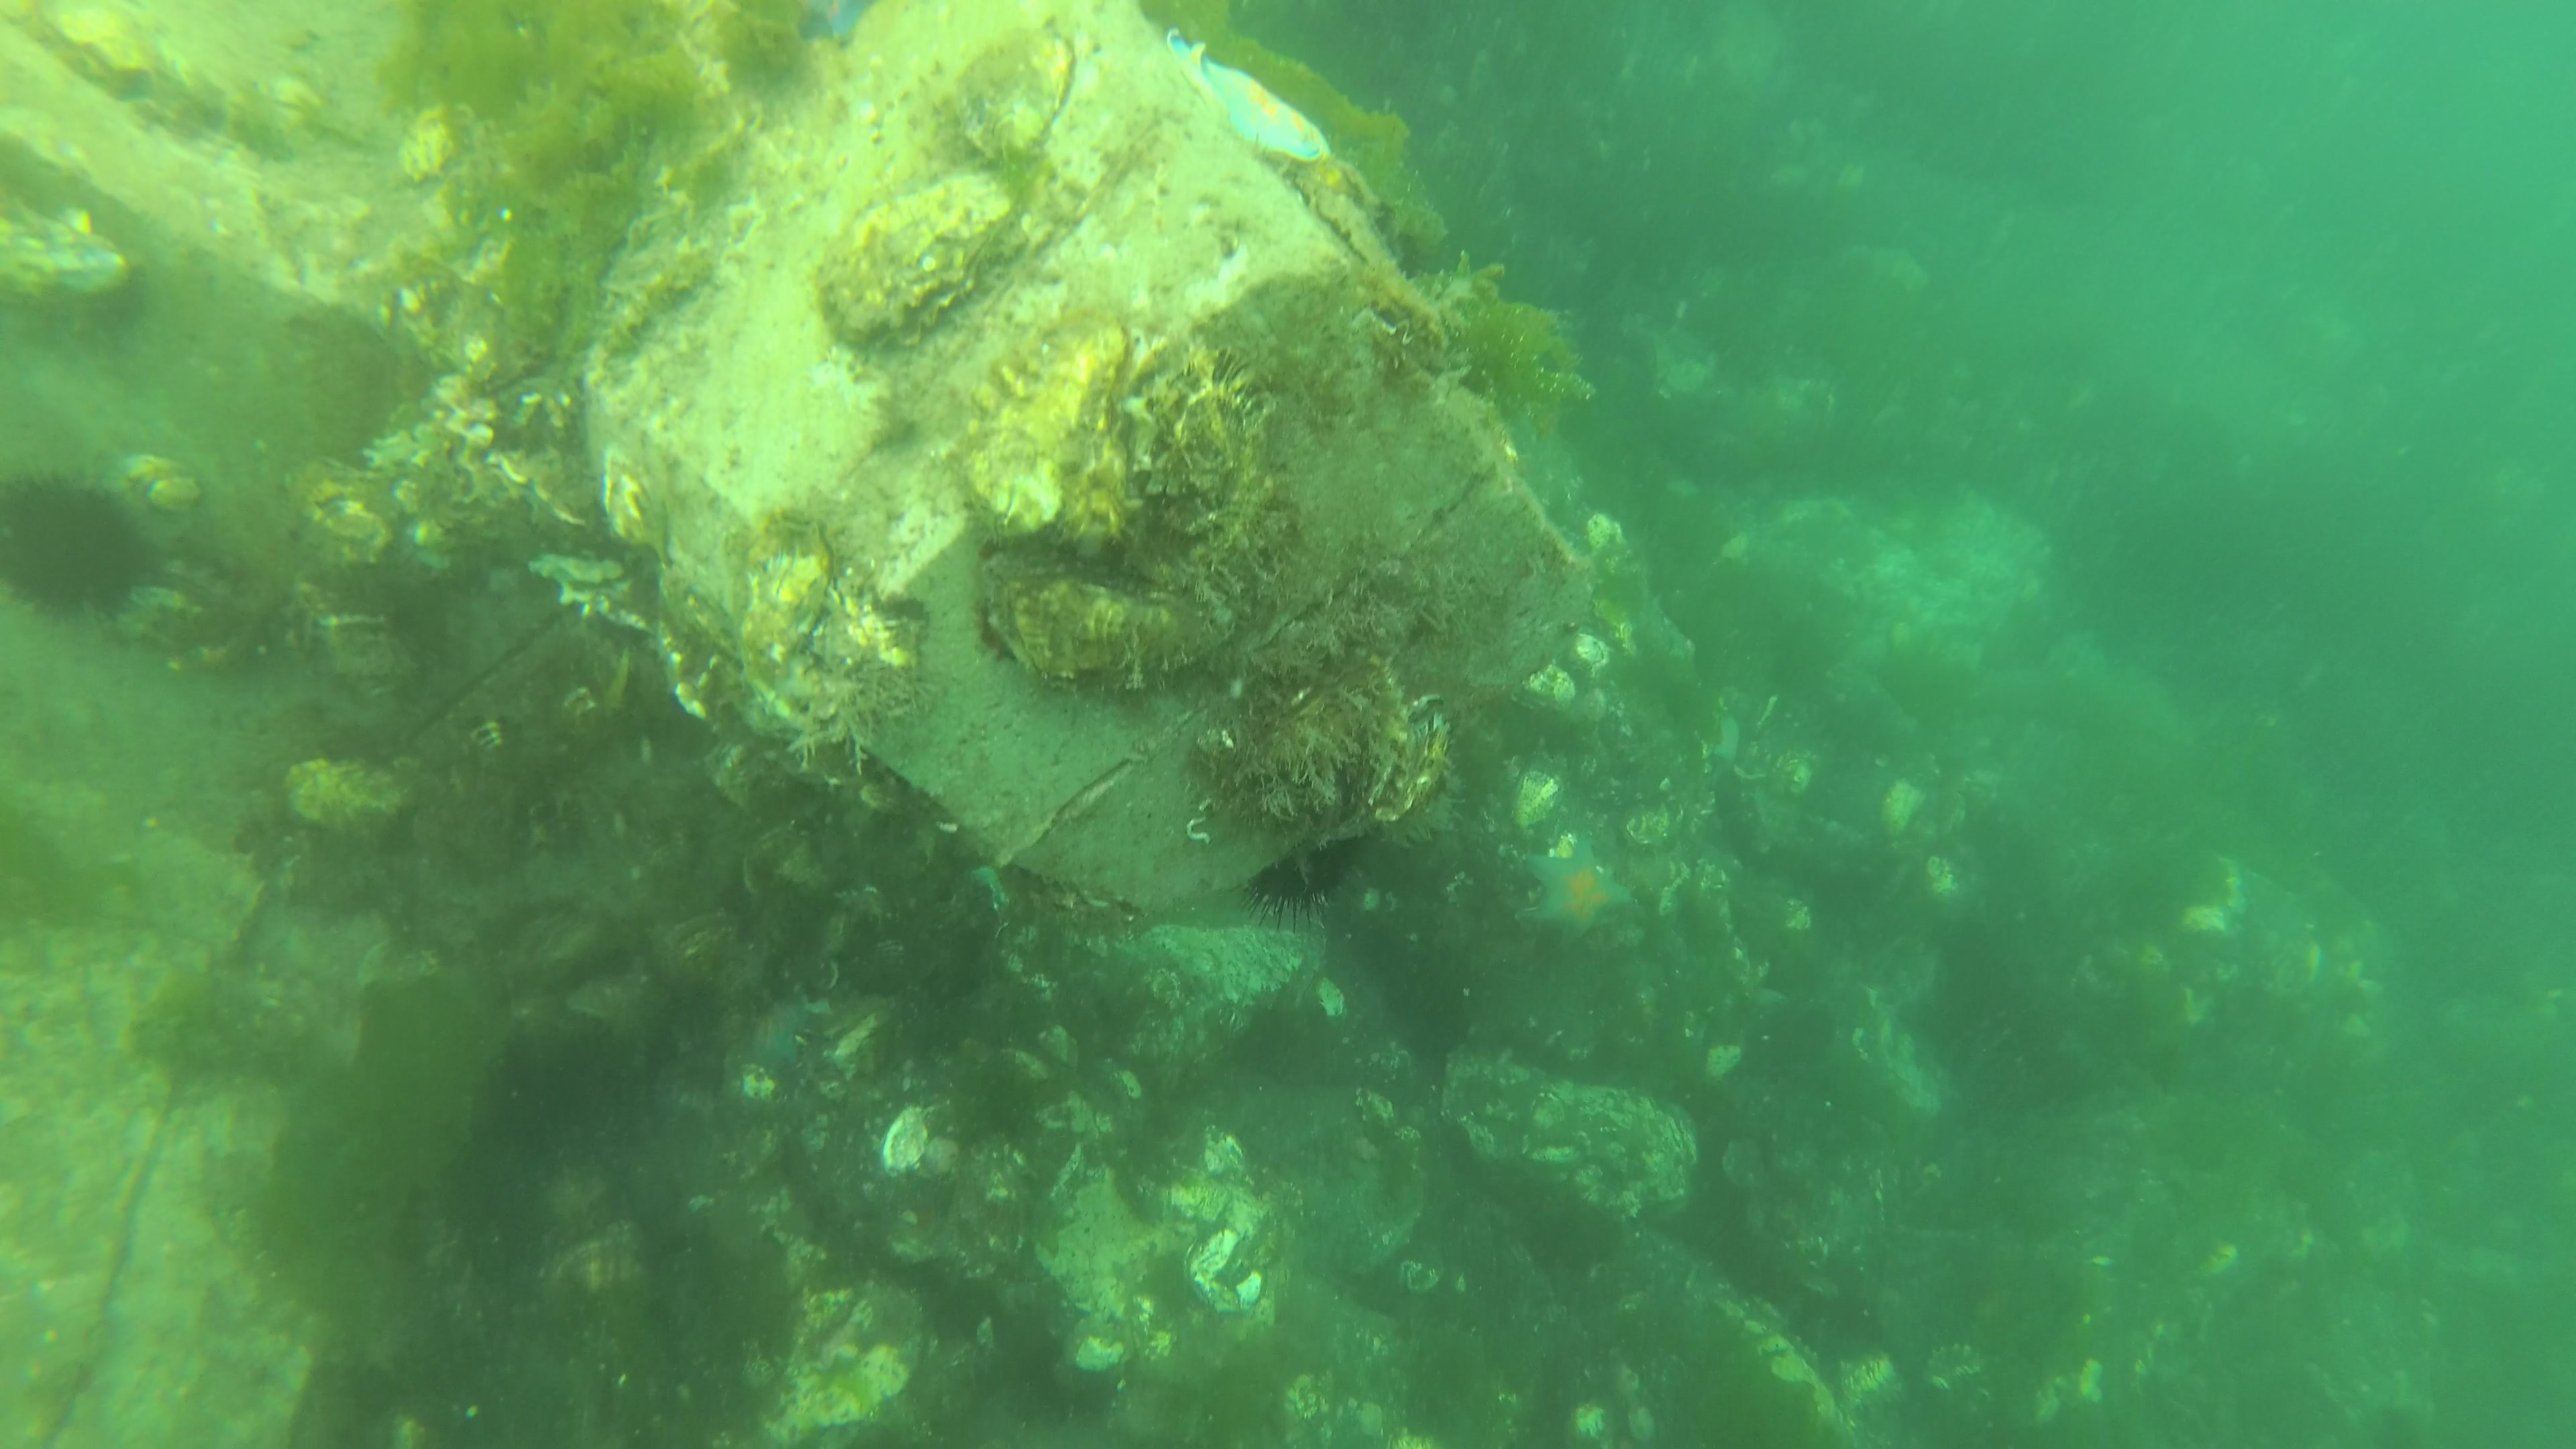echinus: (2, 464, 156, 630), (1249, 839, 1366, 931)
holothurian: (1909, 1341, 2005, 1392)
starfish: (1159, 19, 1338, 168), (1516, 830, 1635, 948), (747, 1000, 810, 1074), (789, 4, 874, 51), (1711, 709, 1743, 787)
